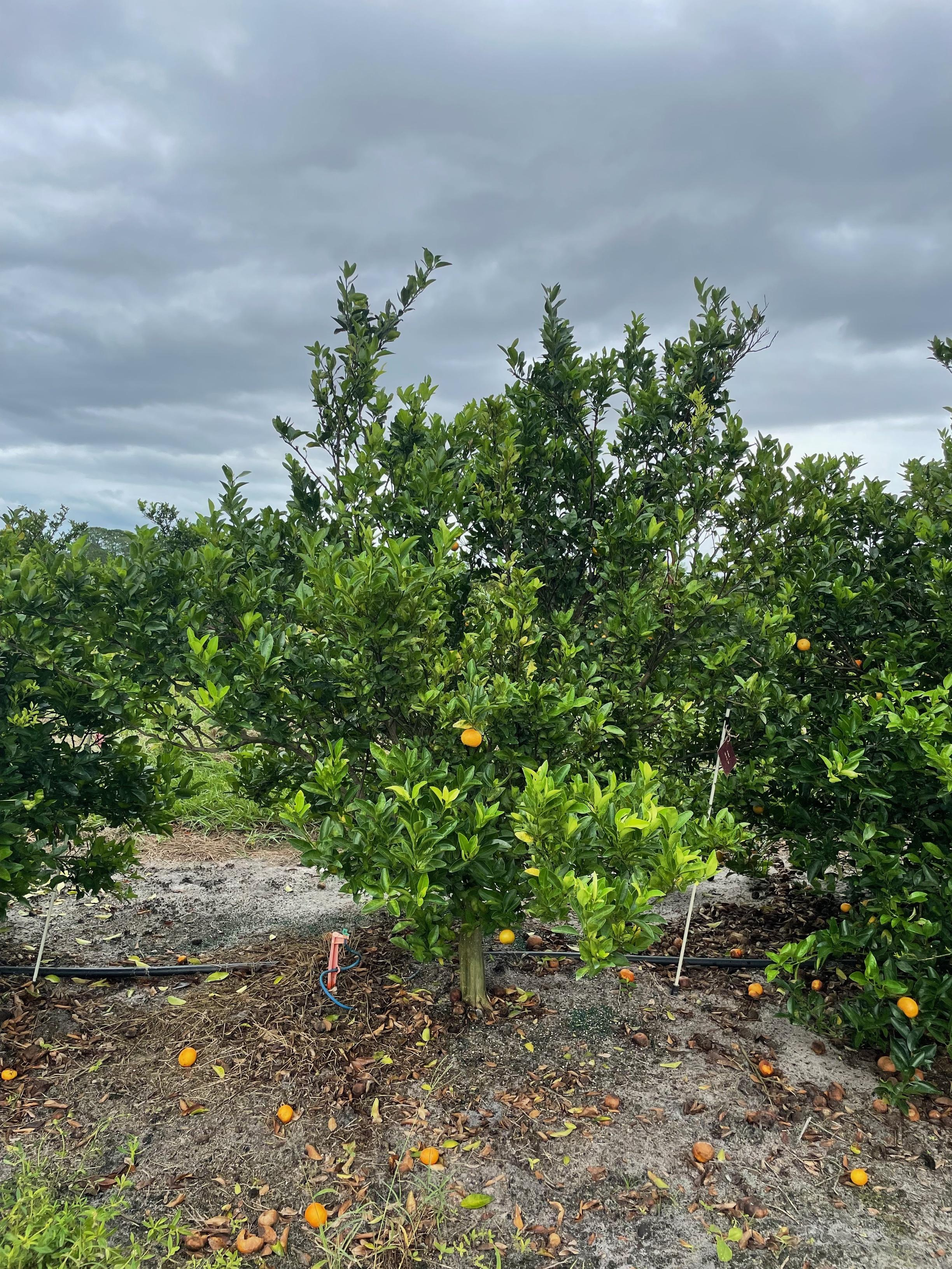fruit_on_ground: (458, 724, 486, 751), (894, 993, 921, 1019), (497, 927, 517, 947), (796, 637, 812, 653), (751, 800, 766, 815), (839, 901, 853, 915), (449, 540, 461, 553)
fruit_on_tree: (234, 1227, 265, 1255), (303, 1200, 330, 1229), (691, 1139, 716, 1164), (175, 1044, 200, 1069), (182, 1228, 207, 1252), (418, 1144, 441, 1166), (875, 1054, 899, 1075), (256, 1206, 280, 1227), (275, 1103, 296, 1125), (849, 1166, 870, 1188), (524, 932, 546, 951), (808, 1038, 828, 1057), (630, 1029, 651, 1047), (616, 966, 637, 984), (349, 1080, 368, 1098), (908, 1064, 927, 1082), (871, 1097, 890, 1115), (602, 1092, 621, 1110), (746, 980, 765, 998), (808, 975, 826, 993), (757, 1058, 775, 1075), (676, 974, 693, 989), (728, 947, 744, 958)
